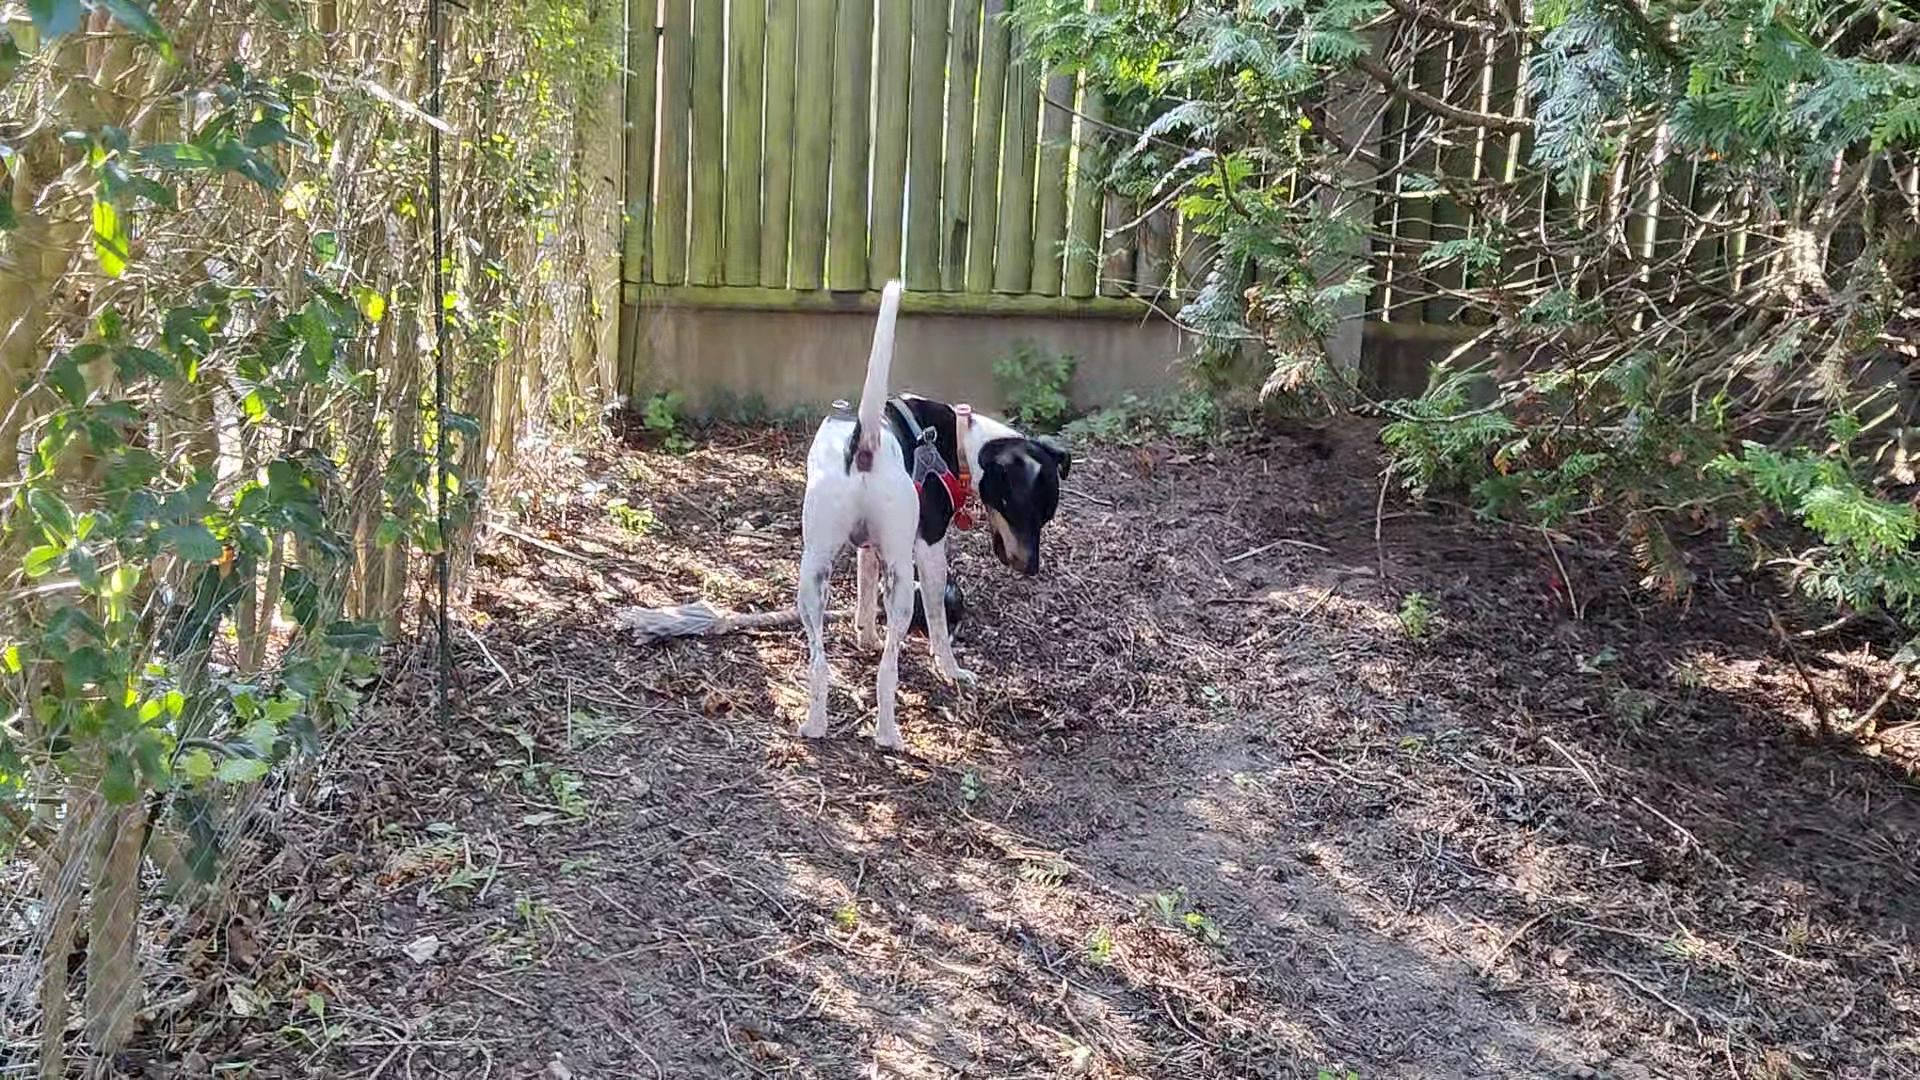Dog: (778, 269, 1075, 749)
